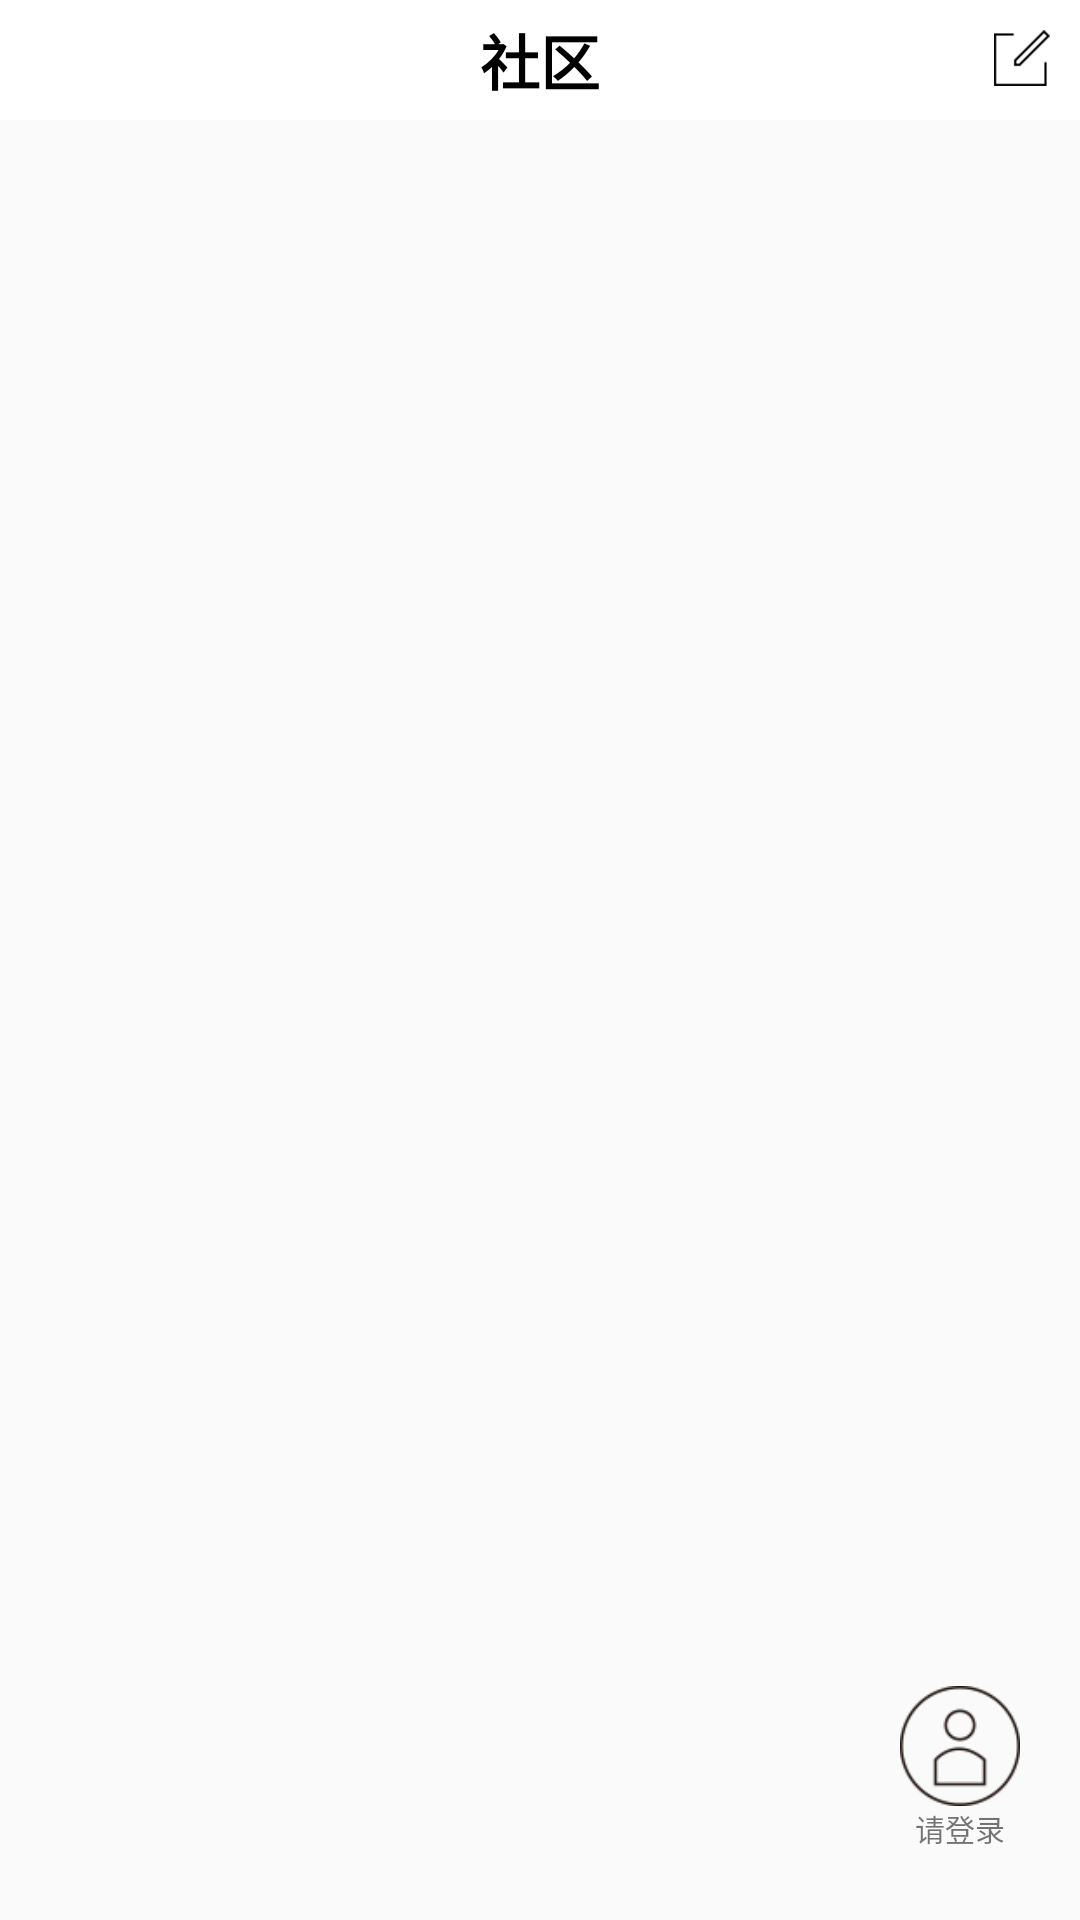

Icon bounding boxes for this 1080w x 1920h phone screenshot, format bbox(x1, y1, x2, y2):
user: bbox(900, 1686, 1020, 1806)
